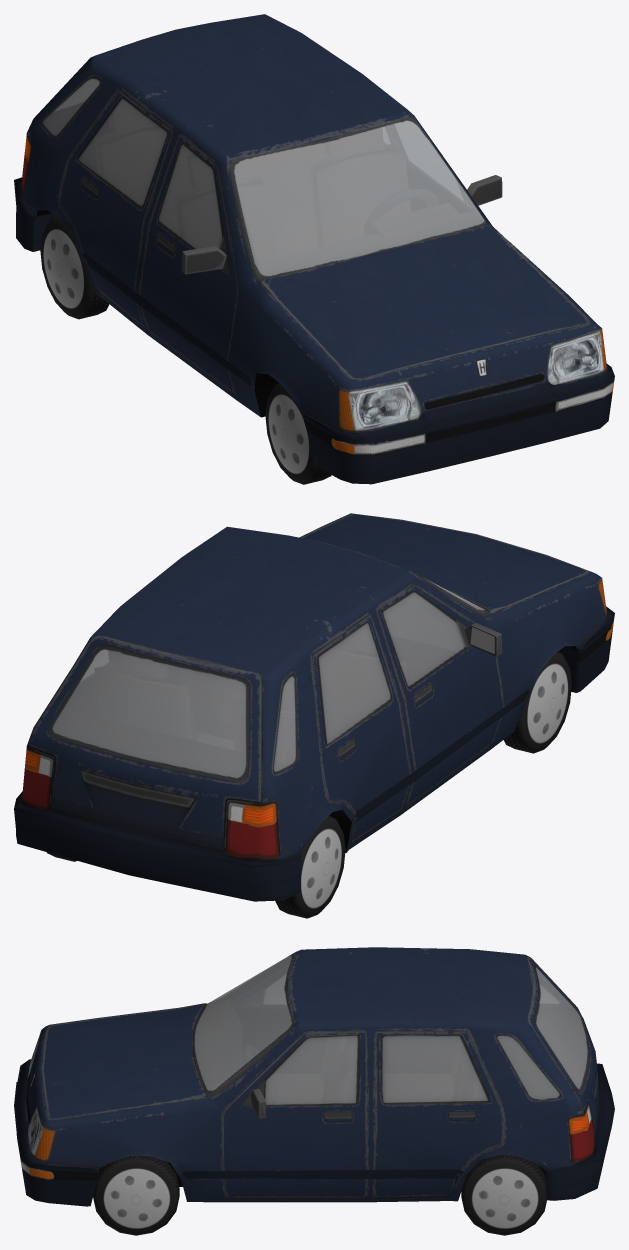
The picture shows the model from 3 angles, top to bottom: view 1: azimuth 30°, elevation 25°; view 2: azimuth 150°, elevation 25°; view 3: azimuth 270°, elevation 25°; orthographic projection. The views are drawn at different scales.
Visible parts, largest first — view 1: o_car_1_low2, polySurface48, o_wheel_low1, o_wheel_low2, mirror2, mirror1; view 2: o_car_1_low2, polySurface48, o_wheel_low1, o_wheel_low2, mirror2; view 3: o_car_1_low2, polySurface48, o_wheel_low1, o_wheel_low2.
Part boxes in pixels (x1,y1,x2,y2): o_car_1_low2: (14,14,614,484); polySurface48: (43,99,483,275); o_wheel_low1: (40,216,109,319); o_wheel_low2: (265,383,331,484); mirror2: (182,246,226,274); mirror1: (465,175,502,207); o_car_1_low2: (14,513,614,901); polySurface48: (53,593,482,777); o_wheel_low1: (46,815,345,918); o_wheel_low2: (504,651,571,753); mirror2: (464,623,501,656); o_car_1_low2: (14,947,614,1206); polySurface48: (195,1000,586,1105); o_wheel_low1: (461,1154,546,1235); o_wheel_low2: (93,1156,179,1235).
Bounding box in the file's own units: 305 × 229 × 611.
Materials: 1 (1 with a texture image).
